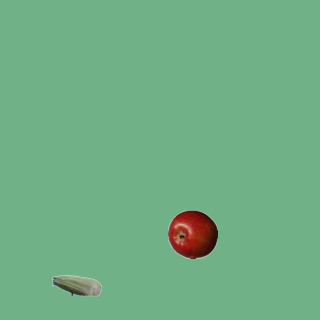Apple Braeburn: (167, 209, 217, 259)
Corn Husk: (51, 260, 101, 310)
